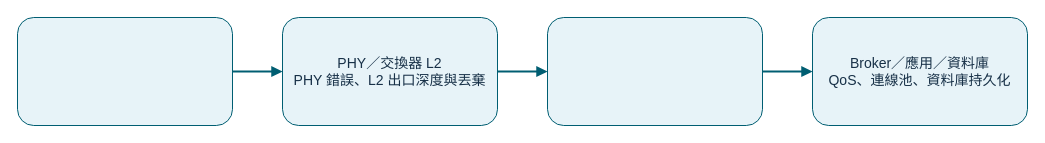
This 1045x143 diagram has some shape labels left out. Here are the shapes that lost their labels. From the top down, the box of each, then its label:
(16, 16, 232, 126): 採集器／PLC 任務 輪詢釋出、scan、待發時間
(546, 16, 762, 126): TCP／閘道／RTU 重試、接收窗、半雙工與 turnaround
